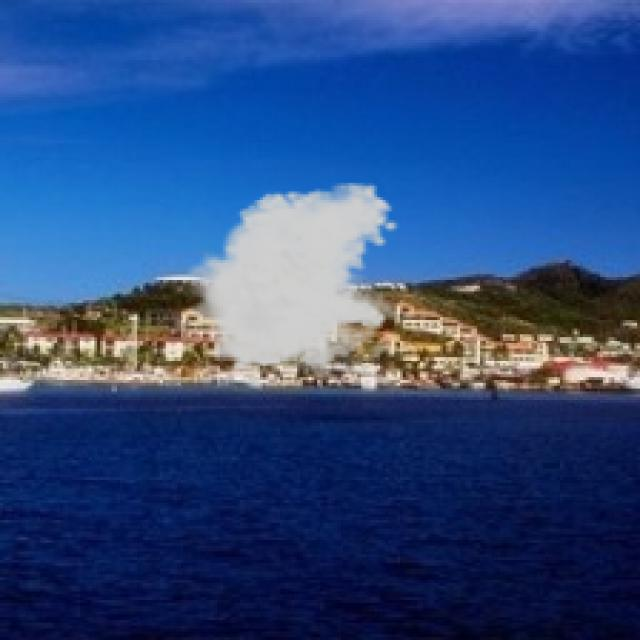smoke: (180, 180, 400, 383)
